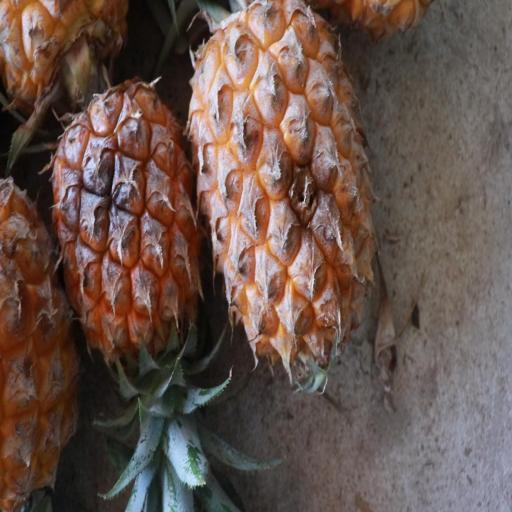Pineapple - v8 v1: (187, 0, 386, 375), (51, 76, 210, 382), (3, 492, 6, 497)
